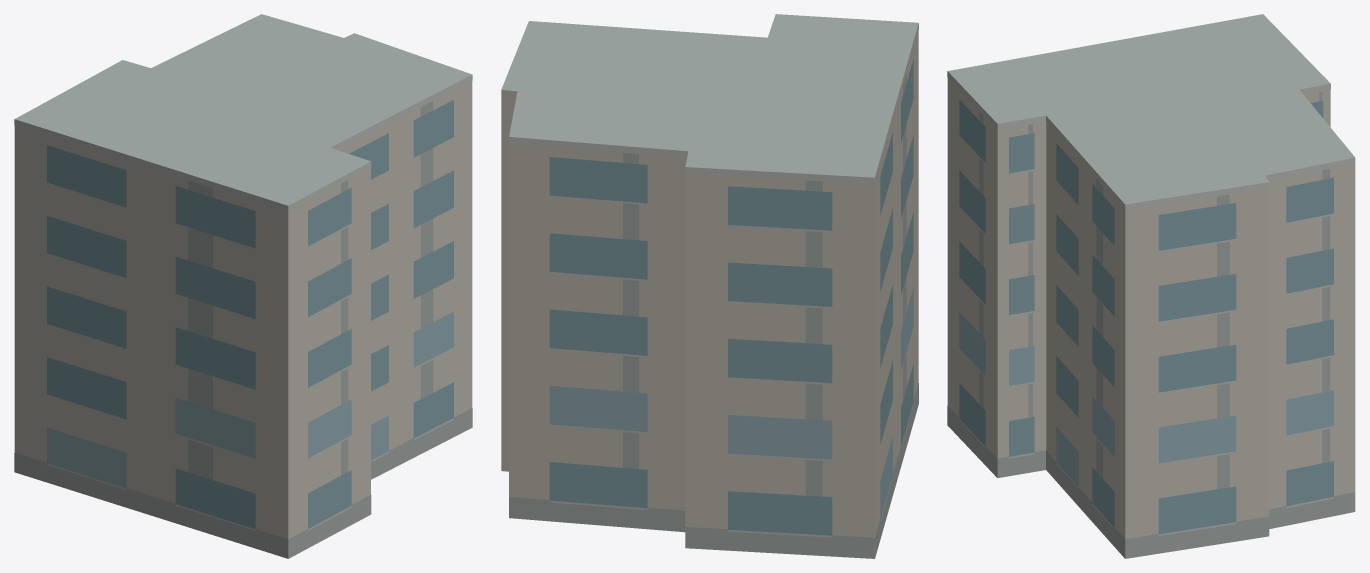
The model's file is survey-upis-32933134.glb.
The picture shows the model from 3 angles, left to right: view 1: azimuth 30°, elevation 25°; view 2: azimuth 150°, elevation 25°; view 3: azimuth 270°, elevation 25°; orthographic projection. The views are drawn at different scales.
Parts seen in each view (by area): view 1: survey-upis-32933134.tmp; view 2: survey-upis-32933134.tmp; view 3: survey-upis-32933134.tmp.
Boxes of the visible parts, x1,y1,x2,y2 form: survey-upis-32933134.tmp: (14,14,472,558); survey-upis-32933134.tmp: (501,14,918,558); survey-upis-32933134.tmp: (947,14,1355,558).
Bounding box in the file's own units: 15.81 × 13.7 × 14.3.
